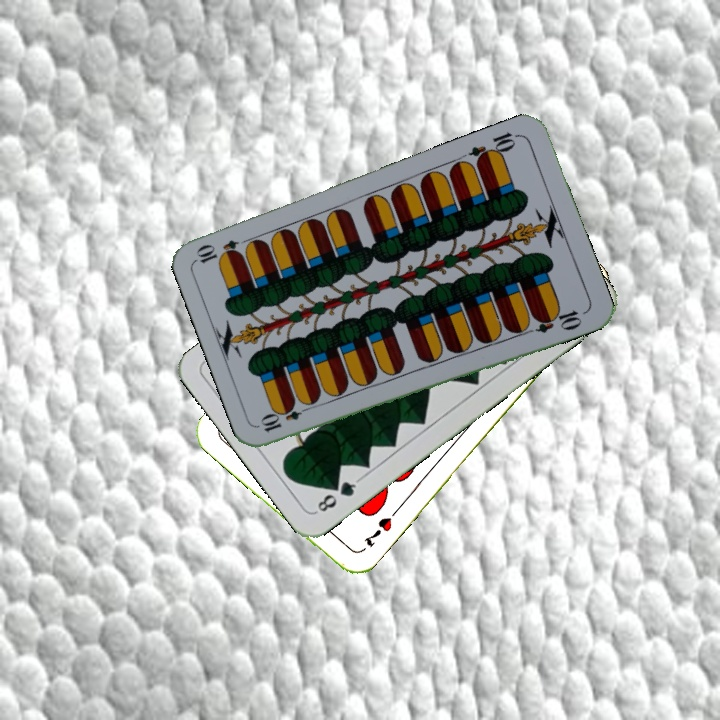E10: (465, 128, 522, 168), (257, 400, 314, 435)
G8: (311, 475, 362, 516)
H7: (359, 513, 395, 550)
